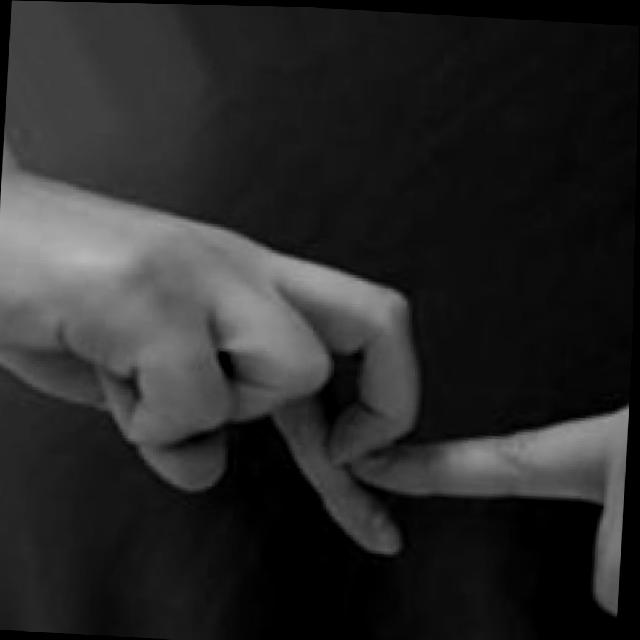R: (0, 136, 637, 628)
